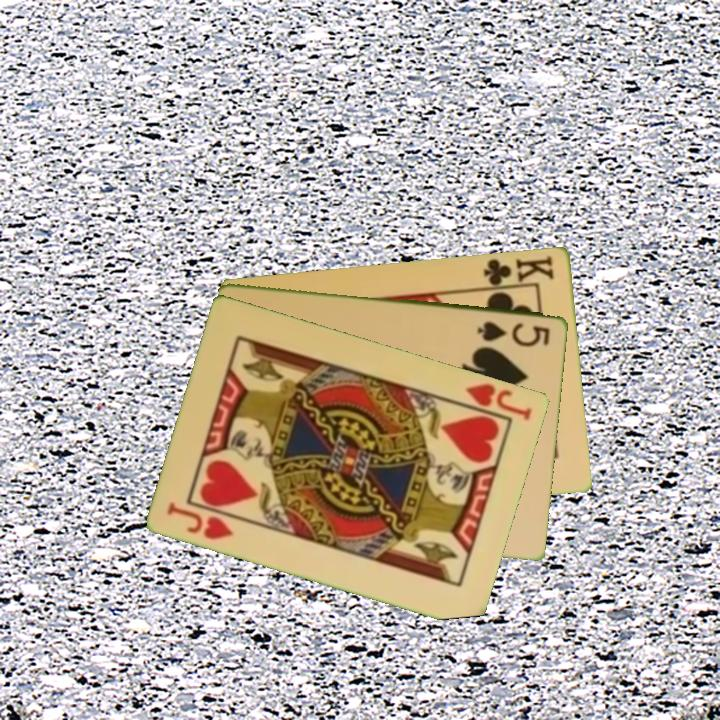5s: (474, 317, 553, 349)
Jh: (164, 498, 237, 543), (463, 379, 536, 423)
Kc: (479, 251, 557, 291)
